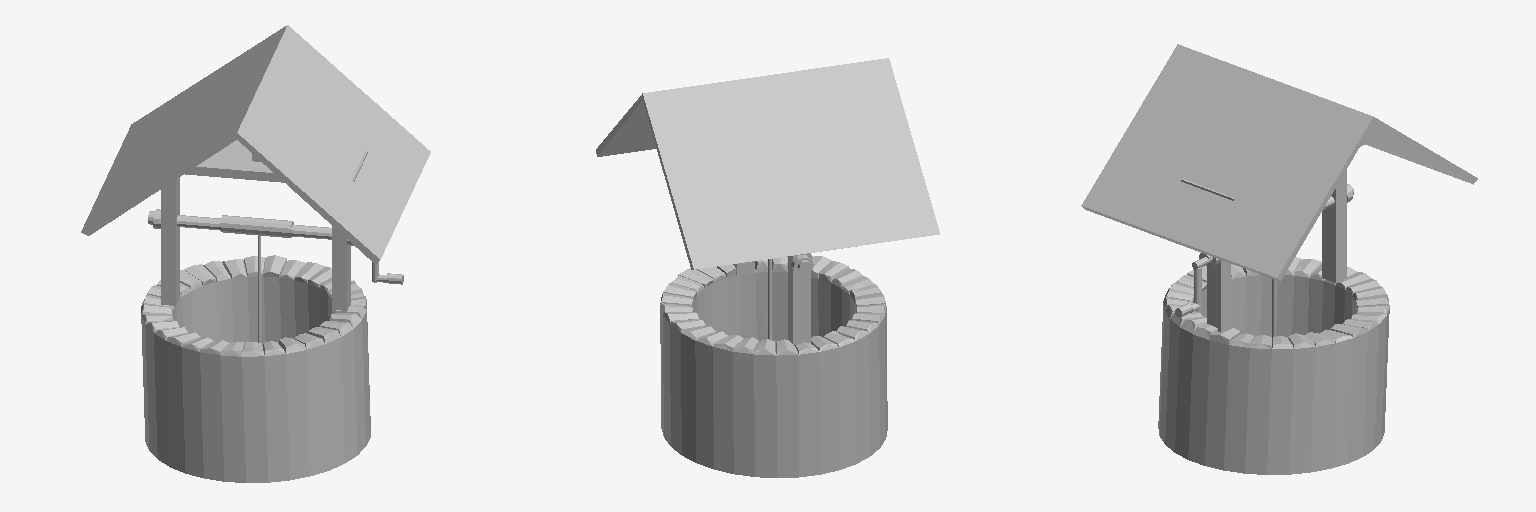
The model's file is Well.obj.
The picture shows the model from 3 angles: view 1: azimuth 30°, elevation 25°; view 2: azimuth 150°, elevation 25°; view 3: azimuth 270°, elevation 25°; orthographic projection.
Visible parts, largest first — view 1: well1; view 2: well1; view 3: well1.
Boxes of the visible parts, x1=… form: well1: x1=81, y1=25, x2=430, y2=482; well1: x1=596, y1=58, x2=939, y2=477; well1: x1=1081, y1=44, x2=1477, y2=474.
Size of the model in its own units: 31.49 by 30.76 by 31.15.